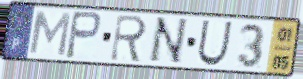3: (236, 22, 267, 70)
M: (27, 10, 73, 58)
N: (146, 16, 190, 66)
P: (64, 9, 103, 61)
R: (108, 13, 149, 65)
U: (195, 19, 235, 68)
